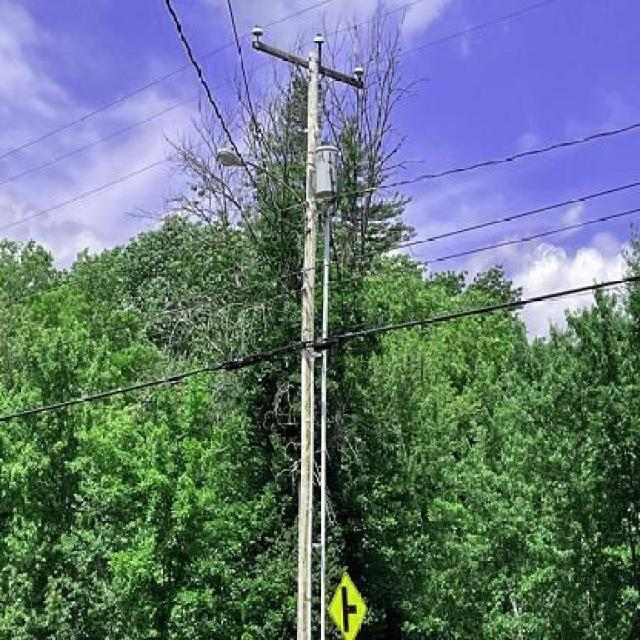light_pole: (269, 26, 369, 640)
